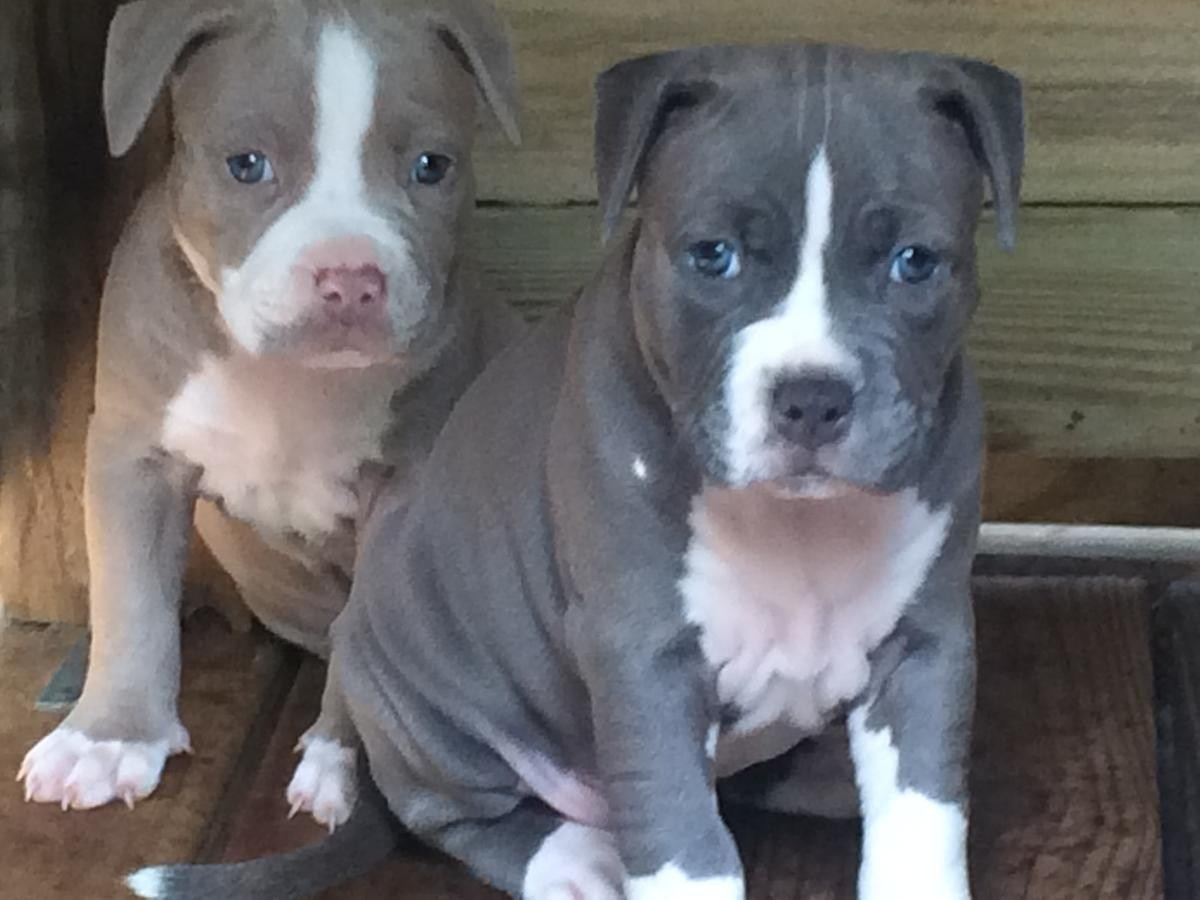am_pit_bull_terrier: (119, 39, 1030, 900), (13, 0, 522, 835)
